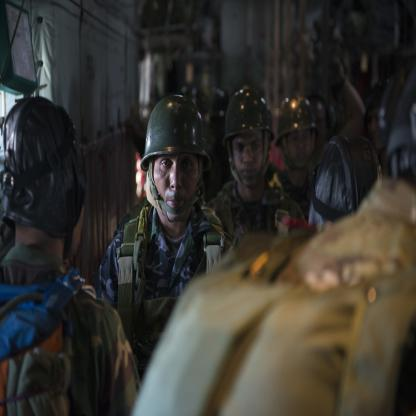Helmet: (0, 96, 87, 255), (135, 100, 211, 228), (223, 87, 275, 187), (273, 95, 315, 170), (367, 76, 401, 150)
